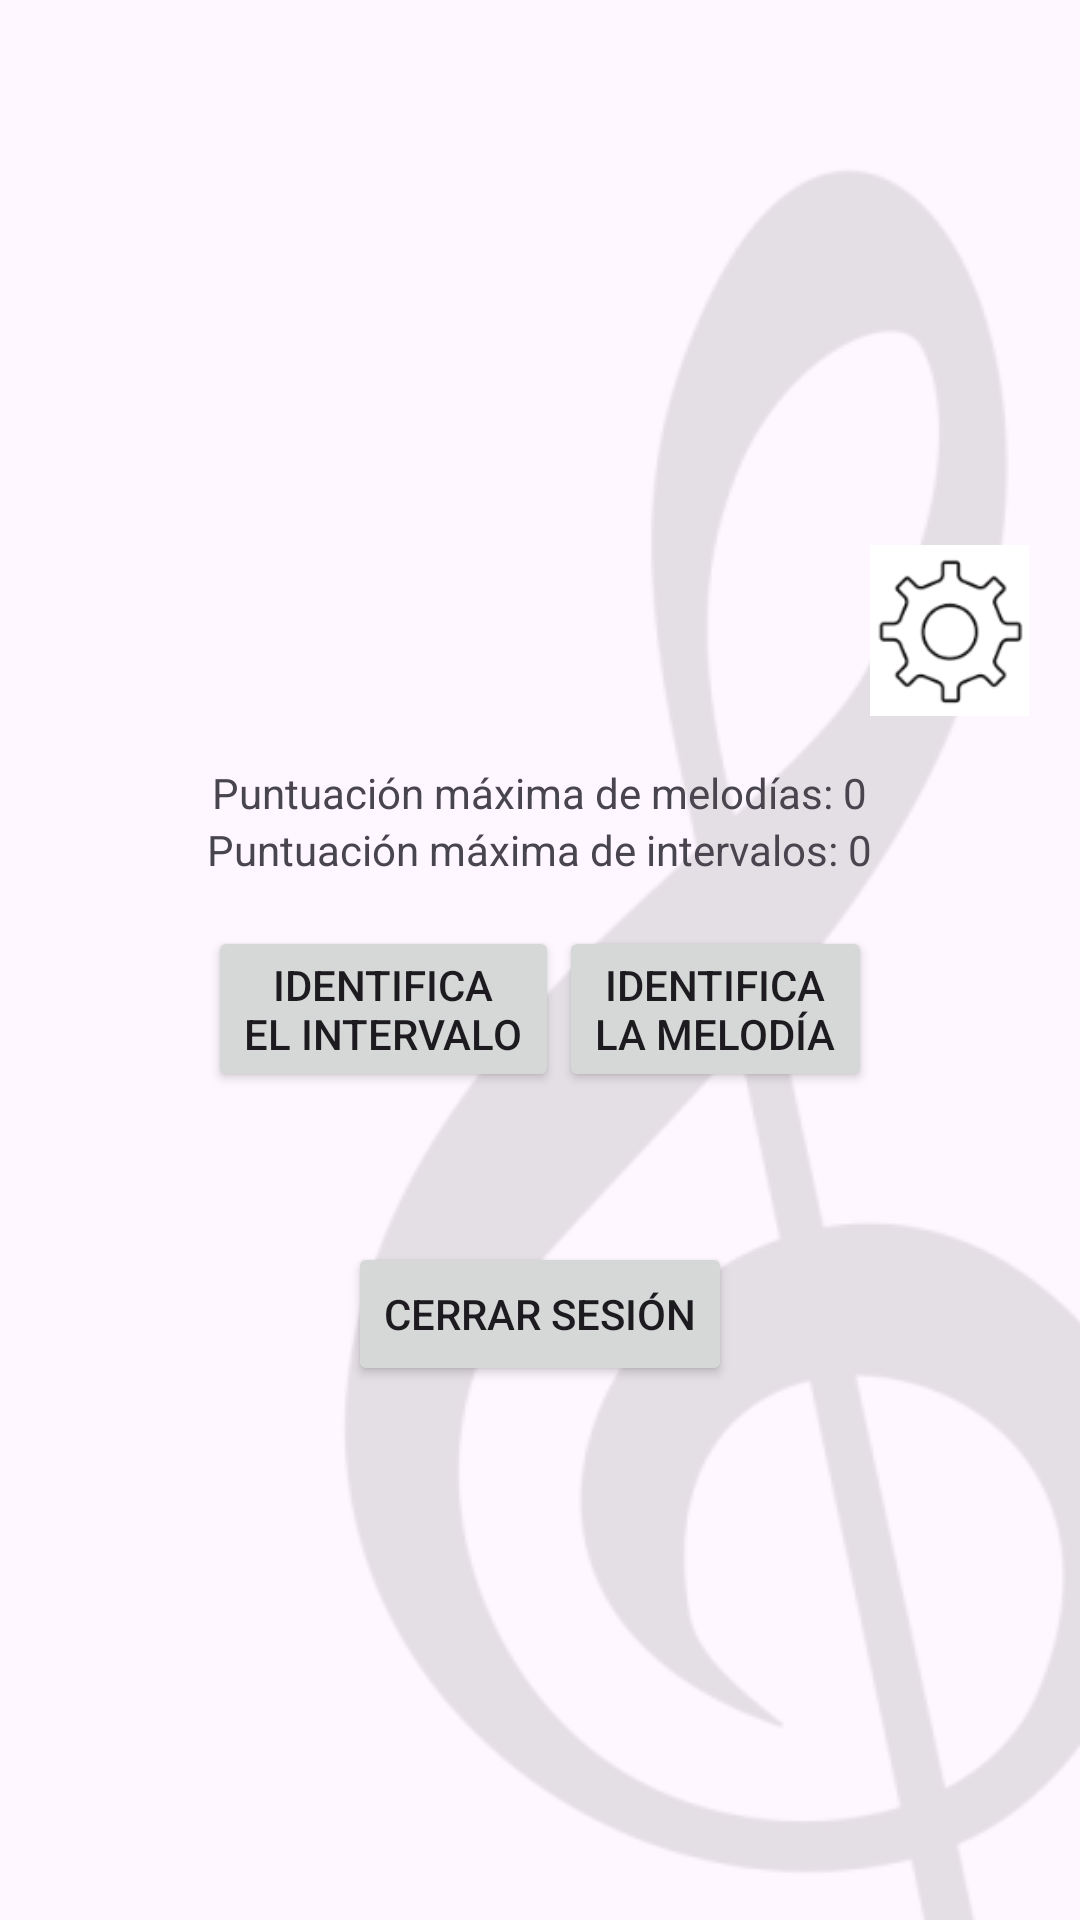

Icon bounding boxes for this 1080×1920 phone screenshot, format (left=x1, top=y1, right=x2, bottom=y2):
settings: (left=878, top=560, right=1023, bottom=704)
